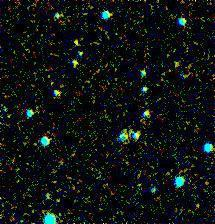star: (61, 28, 91, 58)
